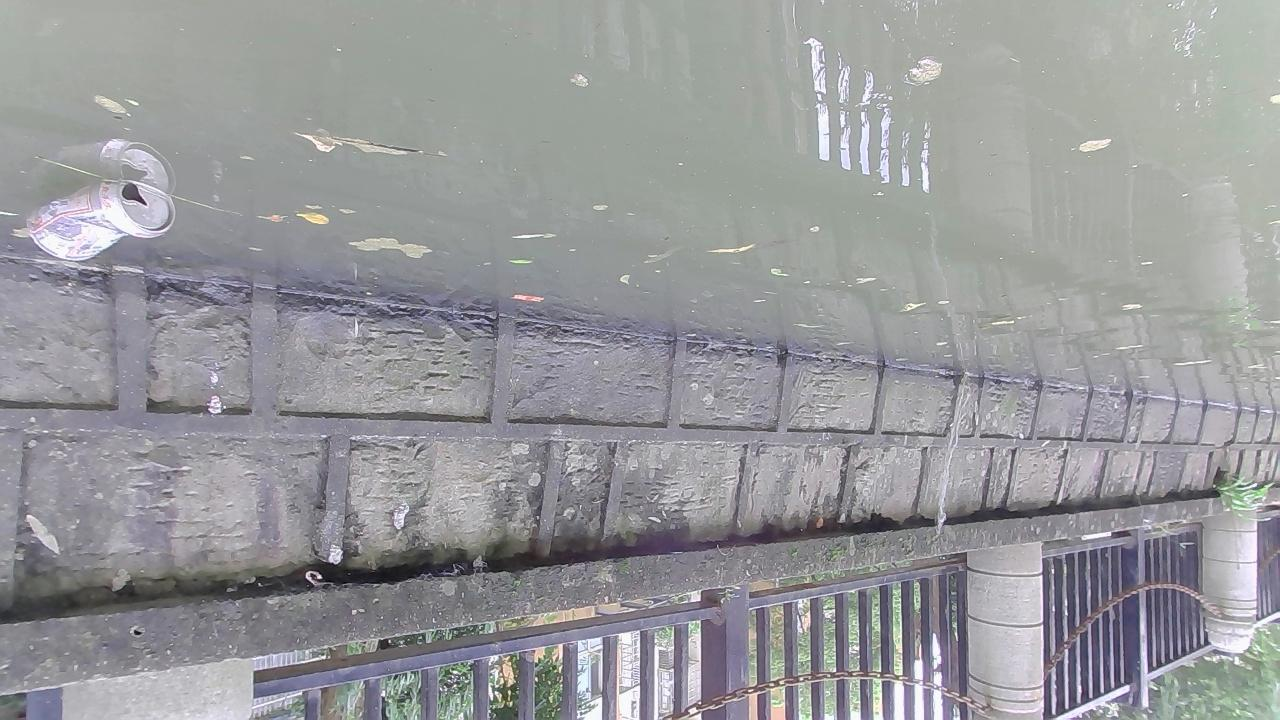Metal: (24, 177, 178, 263)
